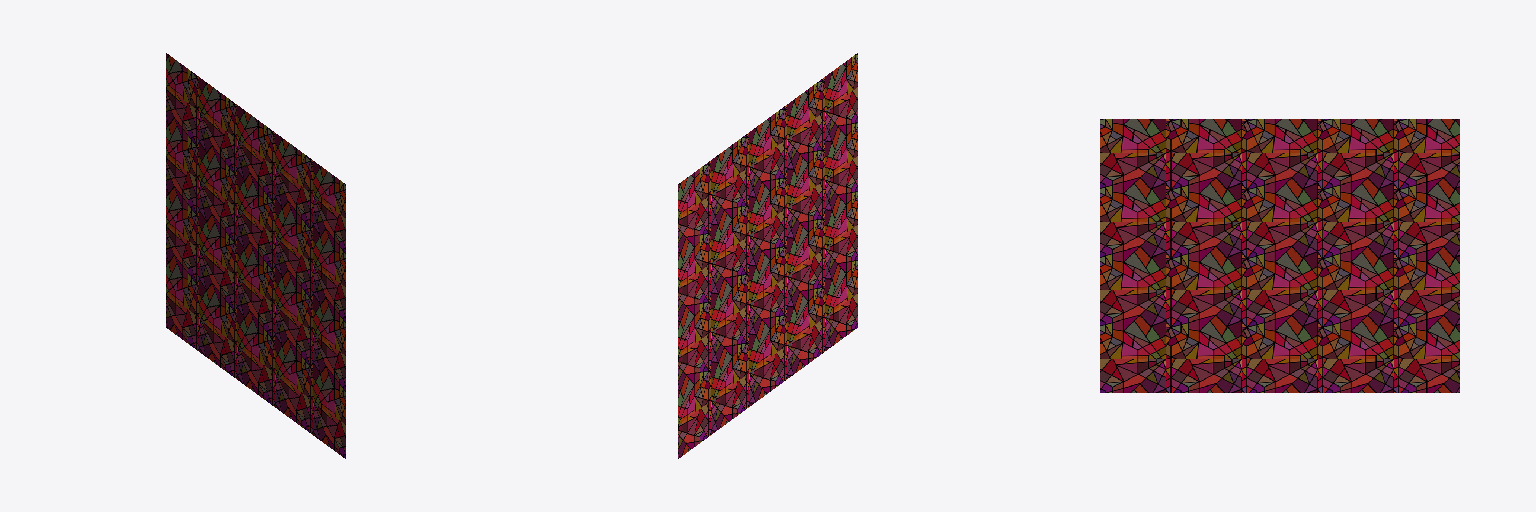
3 views of the same model, side by side, from view 1: azimuth 30°, elevation 25°; view 2: azimuth 150°, elevation 25°; view 3: azimuth 270°, elevation 25° (orthographic).
Visible parts, largest first — view 1: Plane.014_Plane.015; view 2: Plane.014_Plane.015; view 3: Plane.014_Plane.015.
Boxes of the visible parts, x1,y1,x2,y2 form: Plane.014_Plane.015: [166, 53, 345, 458]; Plane.014_Plane.015: [678, 53, 857, 458]; Plane.014_Plane.015: [1100, 119, 1459, 392].
Size of the model in its own units: 0 by 8 by 9.5.
1 materials, 1 textured.